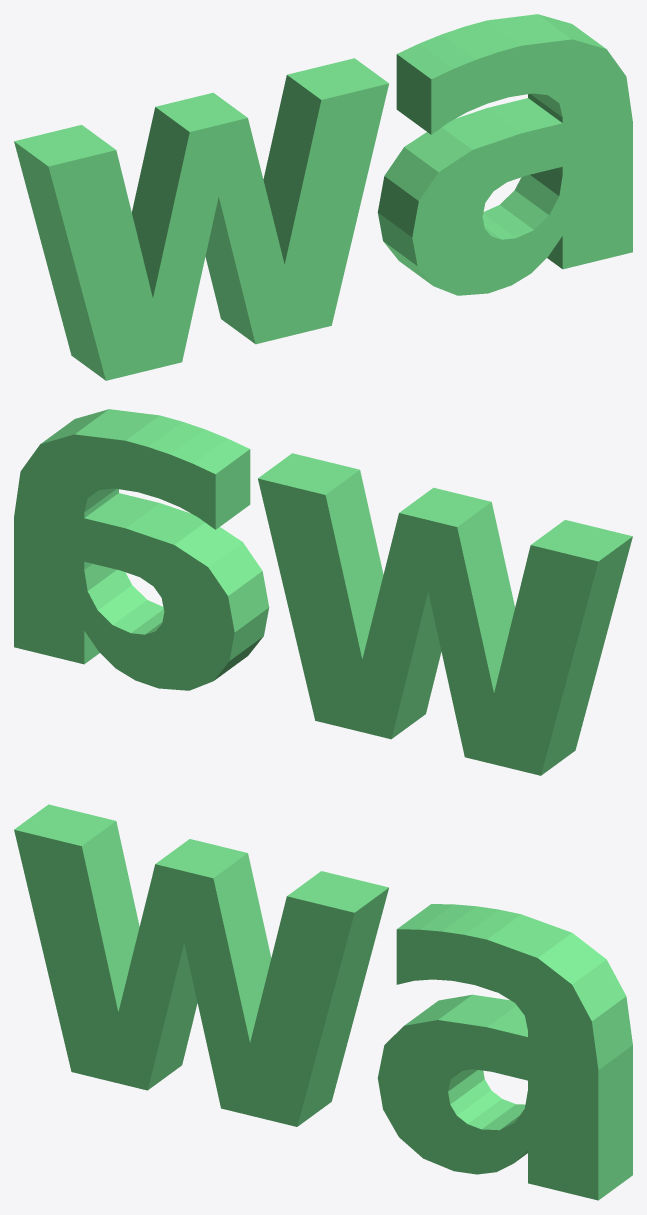
File: suku_kecil_wa.glb
3 renders of one model, top to bottom at view 1: azimuth 30°, elevation 25°; view 2: azimuth 150°, elevation 25°; view 3: azimuth 330°, elevation 25°, orthographic.
Parts seen in each view (by area): view 1: geometry_0; view 2: geometry_0; view 3: geometry_0.
Part boxes in pixels (x1,y1,x2,y2): geometry_0: [14, 14, 632, 380]; geometry_0: [14, 409, 632, 775]; geometry_0: [14, 804, 632, 1200].
Bounding box in the file's own units: 14.65 × 5.74 × 1.5.
